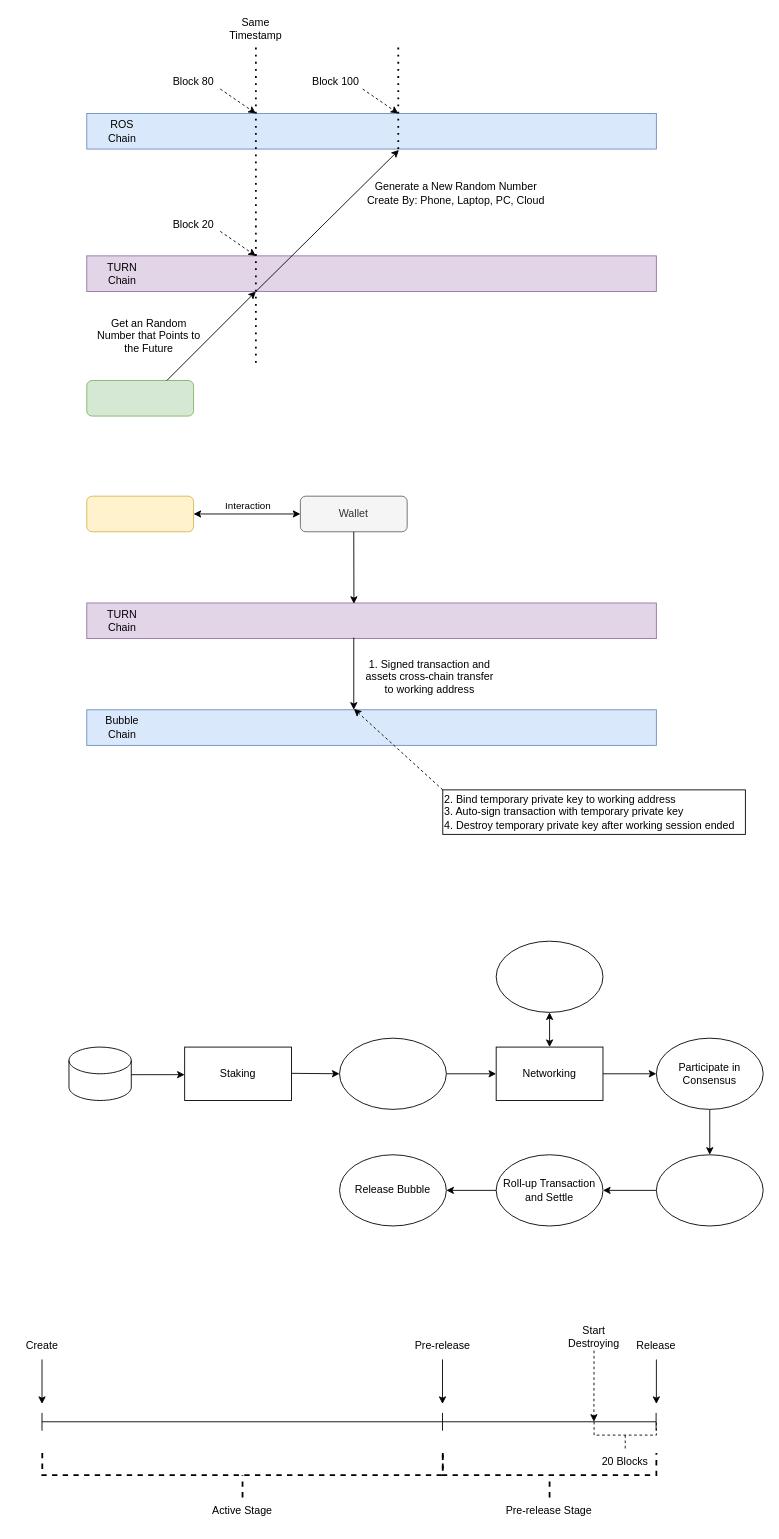
Some shapes in this 779 by 1539 pixel diagram are drawn without their labels. Each missing label, with the box of its shape:
DApp: (86, 380, 194, 416)
Dynamic Replacement of Micro-nodes: (495, 940, 603, 1012)
Micro-node: (68, 1046, 131, 1100)
Player: (86, 495, 194, 532)
Receive Reward: (655, 1154, 763, 1226)
Waiting to be Selected: (339, 1037, 446, 1109)
